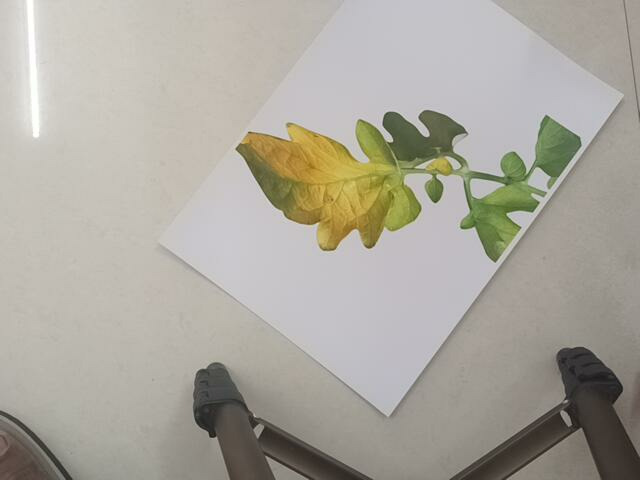Tomamto_Yellow_Disease: (231, 110, 584, 257)
